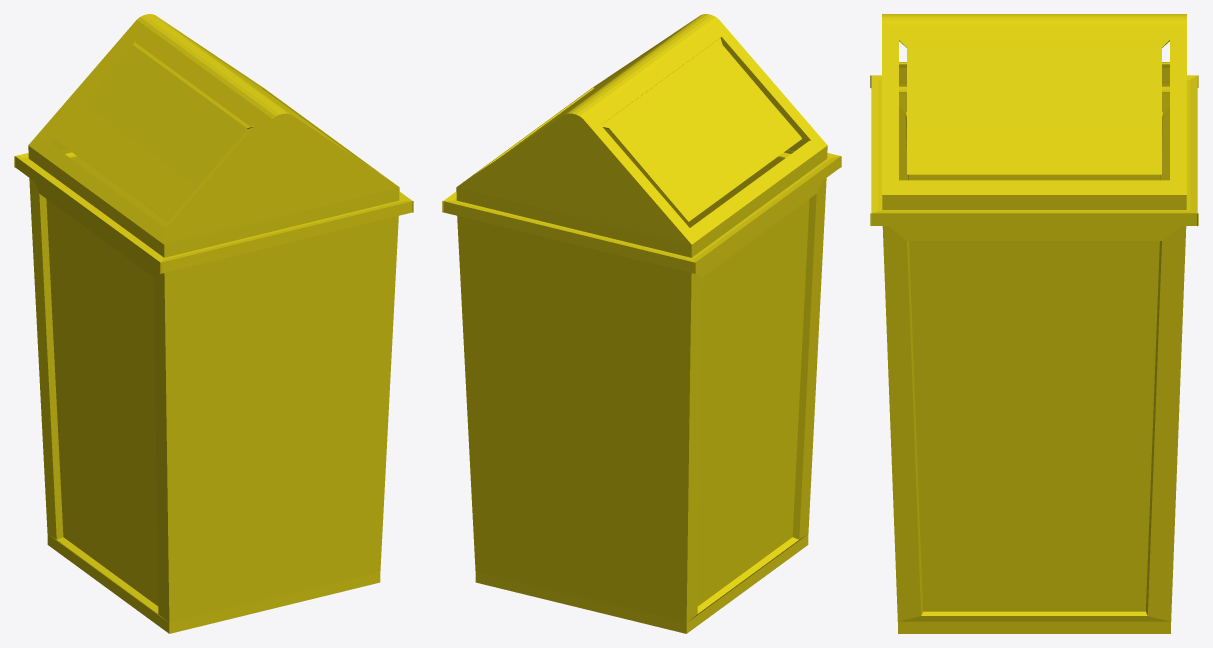
The model's file is tacho_verde.fbx.
3 renders of one model, left to right at view 1: azimuth 30°, elevation 25°; view 2: azimuth 150°, elevation 25°; view 3: azimuth 270°, elevation 25°, orthographic. The views are drawn at different scales.
Visible parts, largest first — view 1: tacho_verde; view 2: tacho_verde; view 3: tacho_verde.
Part boxes in pixels (<box>): tacho_verde: <box>14,14,413,633</box>; tacho_verde: <box>442,14,841,633</box>; tacho_verde: <box>870,14,1198,633</box>.
Bounding box in the file's own units: 205 × 387 × 205.
